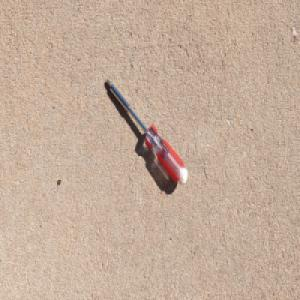Screwdriver: (105, 77, 189, 187)
